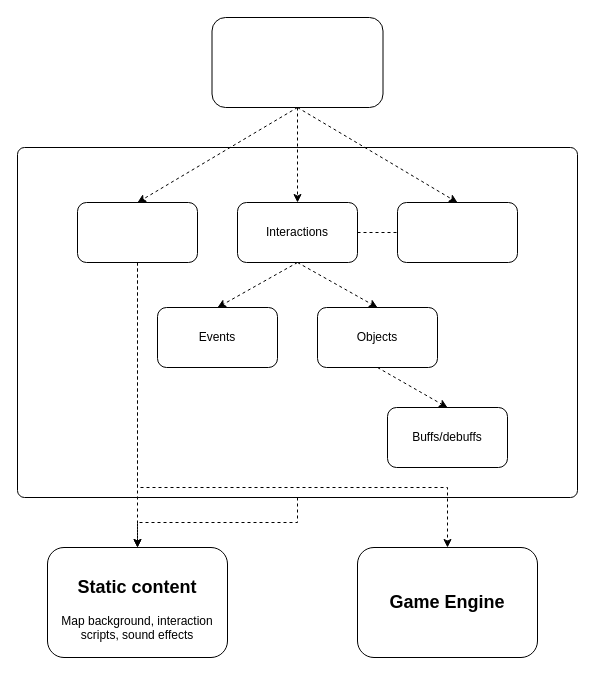
Image size: 595x675. Some labels were removed from this diagram. The shapes that lost their labels are listed below. From the top down, each one's centre as x and y in pixels, then its label:
the point at 297,62: Player Sprite
the point at 137,232: Movement around the map
the point at 457,232: Animations
